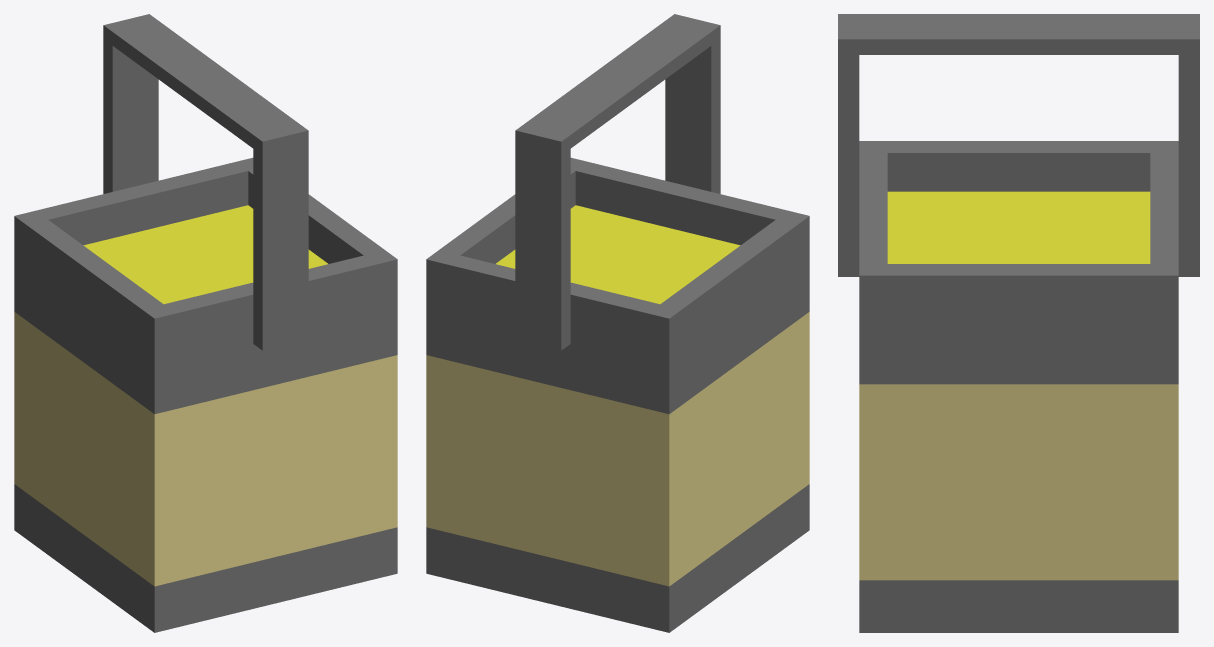
File: Paint Yellow.gltf
3 renders of one model, left to right at view 1: azimuth 30°, elevation 25°; view 2: azimuth 150°, elevation 25°; view 3: azimuth 270°, elevation 25°, orthographic. The views are drawn at different scales.
Parts seen in each view (by area): view 1: Pain Can; view 2: Pain Can; view 3: Pain Can.
Boxes of the visible parts, x1=… form: Pain Can: x1=14, y1=14, x2=397, y2=632; Pain Can: x1=426, y1=14, x2=809, y2=632; Pain Can: x1=838, y1=14, x2=1199, y2=632.
Size of the model in its own units: 2 by 3.73 by 2.27.
